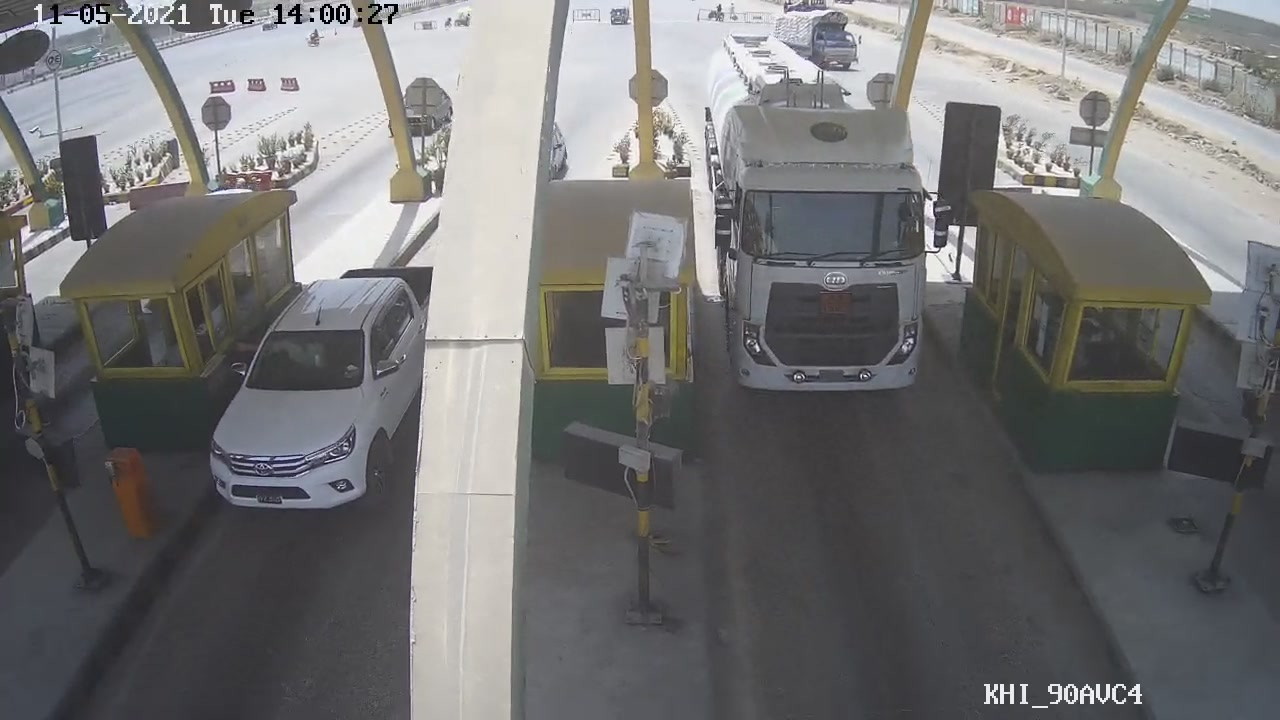F6: (699, 34, 955, 399)
